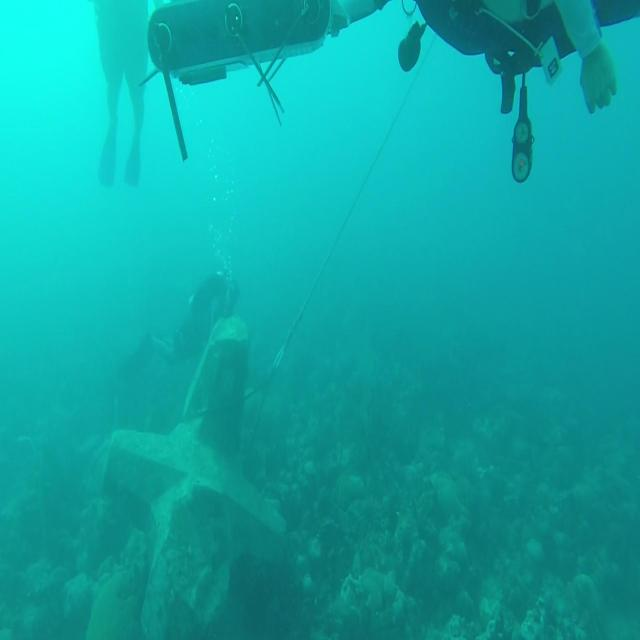human: (398, 0, 638, 183), (83, 2, 157, 212), (120, 259, 250, 365)
